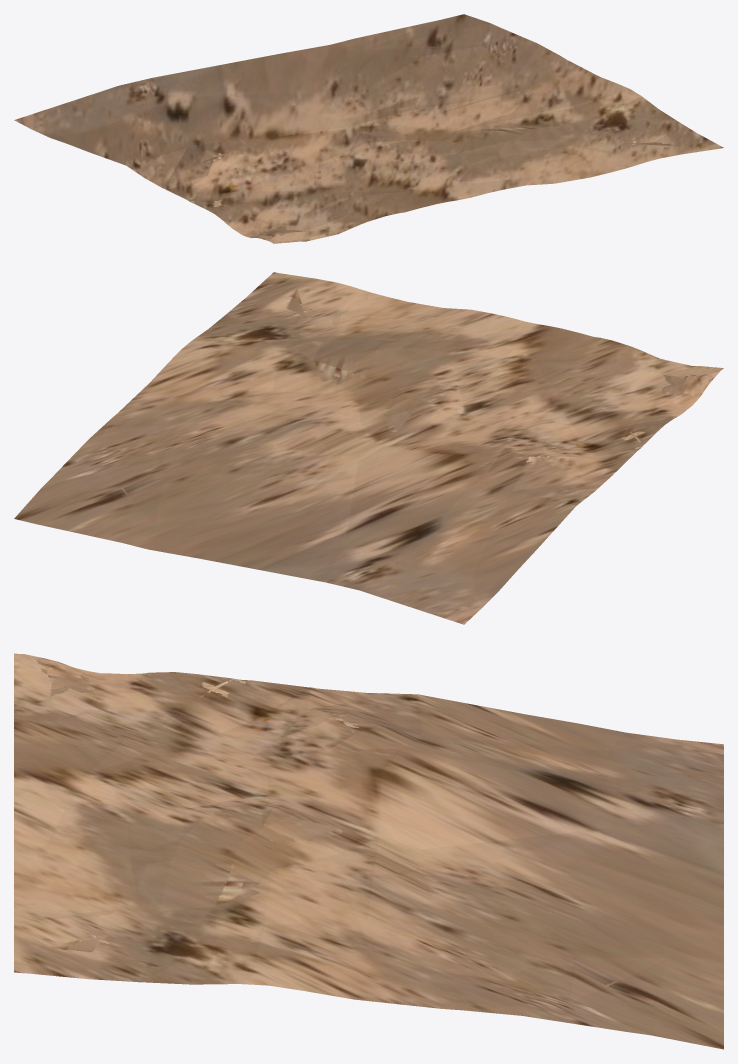
3 renders of one model, top to bottom at view 1: azimuth 30°, elevation 25°; view 2: azimuth 150°, elevation 25°; view 3: azimuth 270°, elevation 25°, orthographic. The views are drawn at different scales.
Bounding box in the file's own units: 1.04 × 0.1567 × 1.04.
2 materials, 2 textured.
